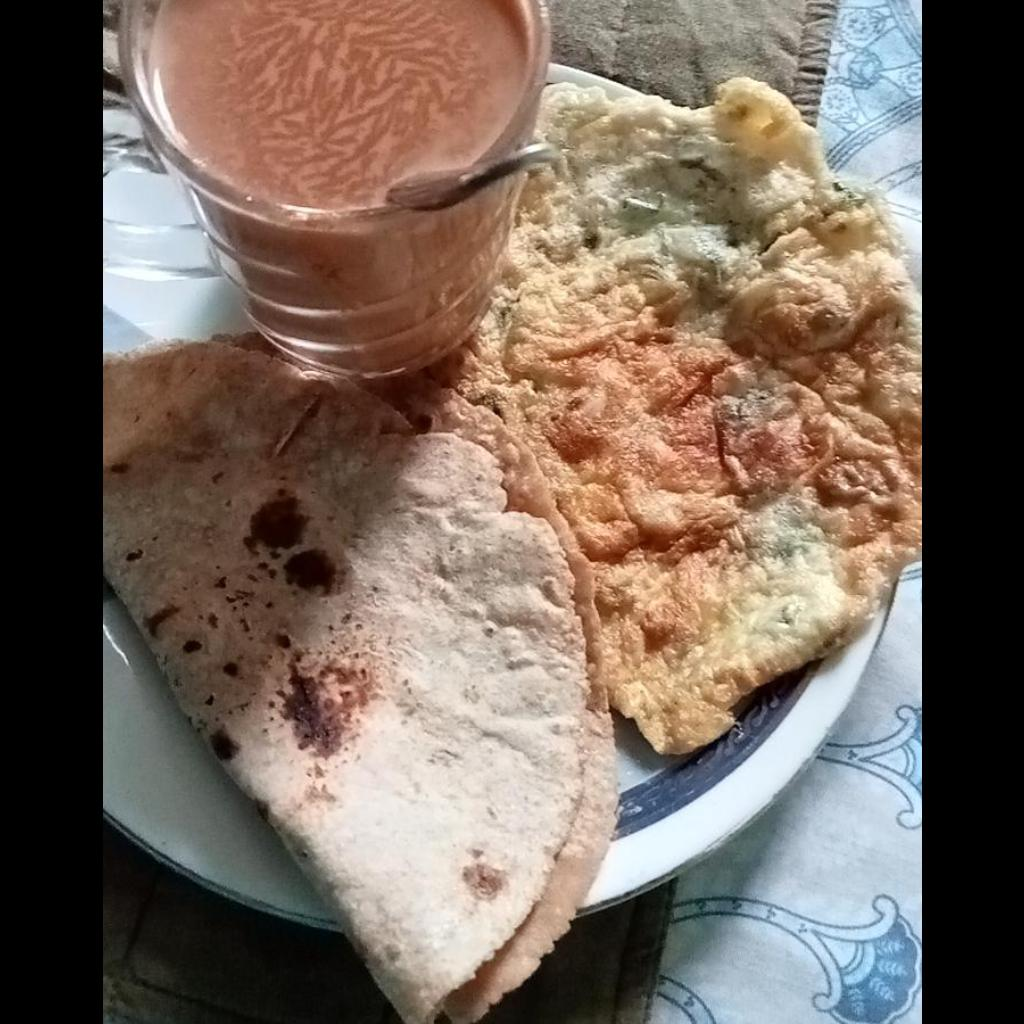cha: (146, 1, 526, 205)
egg: (458, 77, 918, 753)
ruti: (108, 333, 619, 1022)
